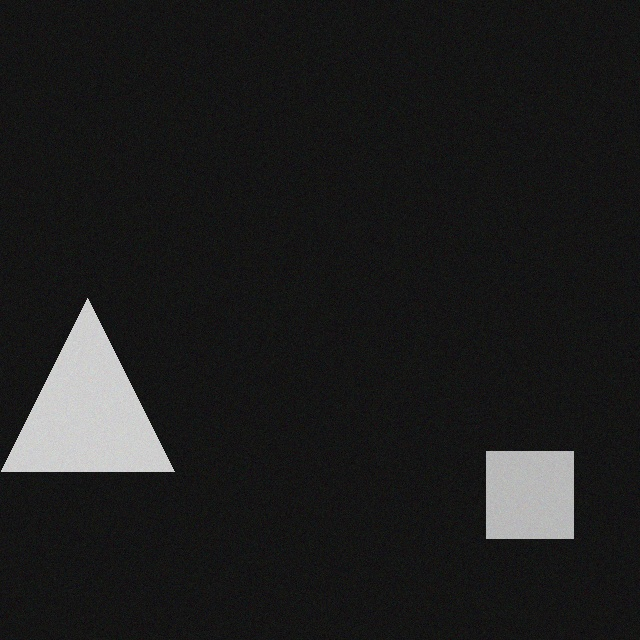square: (487, 464, 574, 551)
triangle: (2, 311, 175, 484)
